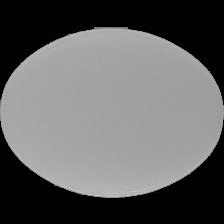58118-0073: (0, 0, 224, 224)
